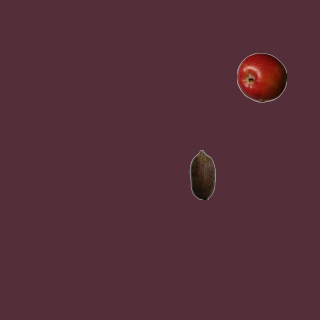Apple Braeburn: (236, 52, 286, 102)
Nut Pecan: (177, 149, 227, 199)
